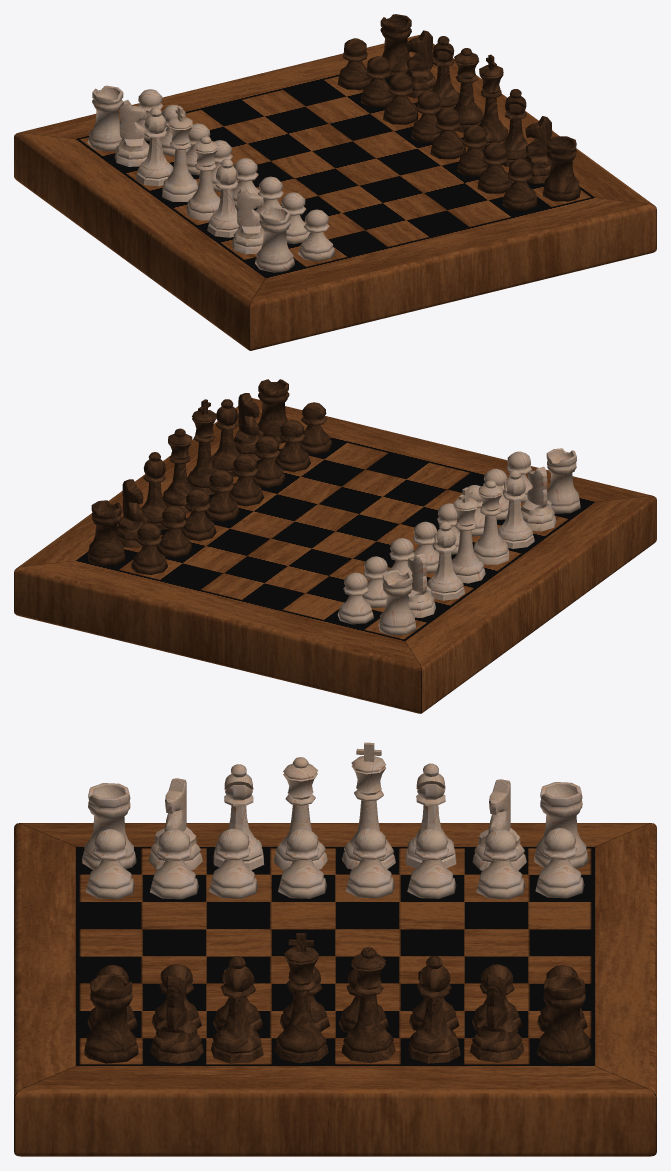
The picture shows the model from 3 angles, top to bottom: view 1: azimuth 30°, elevation 25°; view 2: azimuth 150°, elevation 25°; view 3: azimuth 270°, elevation 25°; orthographic projection. The views are drawn at different scales.
Visible parts, largest first — view 1: ChessBoard_0, WhiteRook_6, WhiteKing_10, BlackRook.001_14, WhiteRook.001_17, WhiteQueen_5, WhiteKnight.001_16, WhiteBishop.001_15, WhiteKnight_3, WhiteBishop_8, BlackKing_11, BlackQueen_7 (+20 smaller); view 2: ChessBoard_0, WhiteRook.001_17, BlackRook_2, WhiteKing_10, WhiteQueen_5, WhiteRook_6, WhiteBishop.001_15, WhiteBishop_8, BlackKing_11, BlackQueen_7, WhiteKnight_3, BlackRook.001_14 (+20 smaller); view 3: ChessBoard_0, BlackKing_11, BlackRook_2, BlackRook.001_14, BlackQueen_7, BlackBishop_4, BlackBishop.001_12, BlackKnight.001_13, BlackKnight_9, WhiteKing_10, WhiteRook.001_17, WhiteRook_6 (+21 smaller).
Boxes of the visible parts, x1,y1,x2,y2 form: ChessBoard_0: (14,35,656,350); WhiteRook_6: (255,206,294,272); WhiteKing_10: (162,106,198,201); BlackRook.001_14: (542,136,580,201); WhiteRook.001_17: (87,85,123,151); WhiteQueen_5: (186,136,220,220); WhiteKnight.001_16: (114,100,149,166); WhiteBishop.001_15: (136,107,173,186); WhiteKnight_3: (232,187,263,254); WhiteBishop_8: (207,159,239,237); BlackKing_11: (479,54,508,149); BlackQueen_7: (453,48,483,132); ChessBoard_0: (14,398,656,713); WhiteRook.001_17: (378,570,416,635); BlackRook_2: (87,500,125,565); WhiteKing_10: (451,487,485,583); WhiteQueen_5: (473,480,509,564); WhiteRook_6: (546,448,580,513); WhiteBishop.001_15: (427,521,464,600); WhiteBishop_8: (498,470,534,548); BlackKing_11: (187,399,216,495); BlackQueen_7: (162,428,193,513); WhiteKnight_3: (521,466,556,531); BlackRook.001_14: (257,379,289,443); ChessBoard_0: (14,823,656,1156); BlackKing_11: (274,933,328,1063); BlackRook_2: (537,974,591,1063); BlackRook.001_14: (84,974,138,1063); BlackQueen_7: (341,947,395,1063); BlackBishop_4: (408,956,460,1063); BlackBishop.001_12: (211,956,263,1063); BlackKnight.001_13: (149,976,203,1063); BlackKnight_9: (470,975,524,1062); WhiteKing_10: (342,742,395,869); WhiteRook.001_17: (534,782,588,868); WhiteRook_6: (82,783,136,869).
Size of the model in its own units: 0.35 by 0.1108 by 0.35.
Materials: 3 (3 with a texture image).
